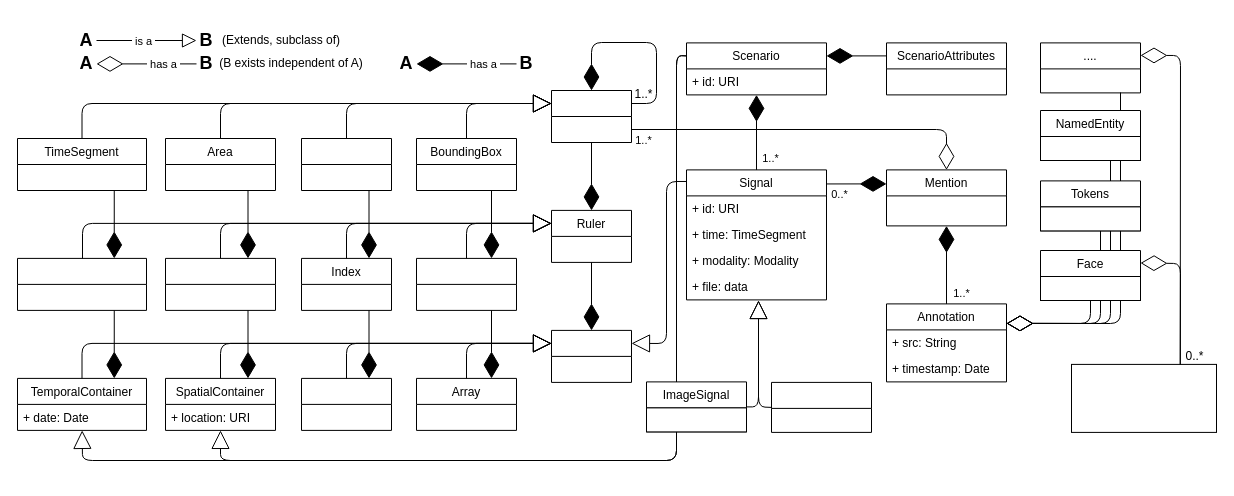
Some shapes in this 1234 by 496 pixel diagram are drawn without their labels. The centre of each missing label's shape, as x and y in pixels:
Container: (591,355)
Coordinates: (220,283)
Formal Model (eKG): (1143,397)
MultiIndex: (466,283)
Offset: (346,164)
Segment: (591,116)
Sequence: (346,403)
TemporalRuler: (81,283)
TextSignal: (821,406)
